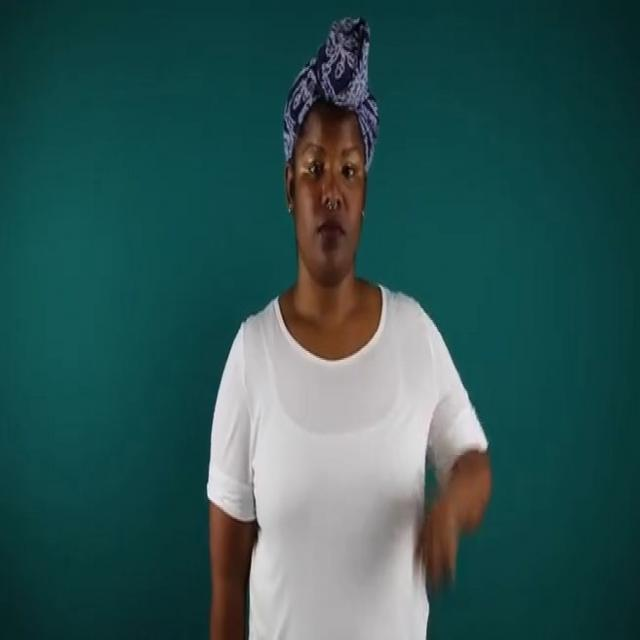bag: (404, 478, 474, 598)
